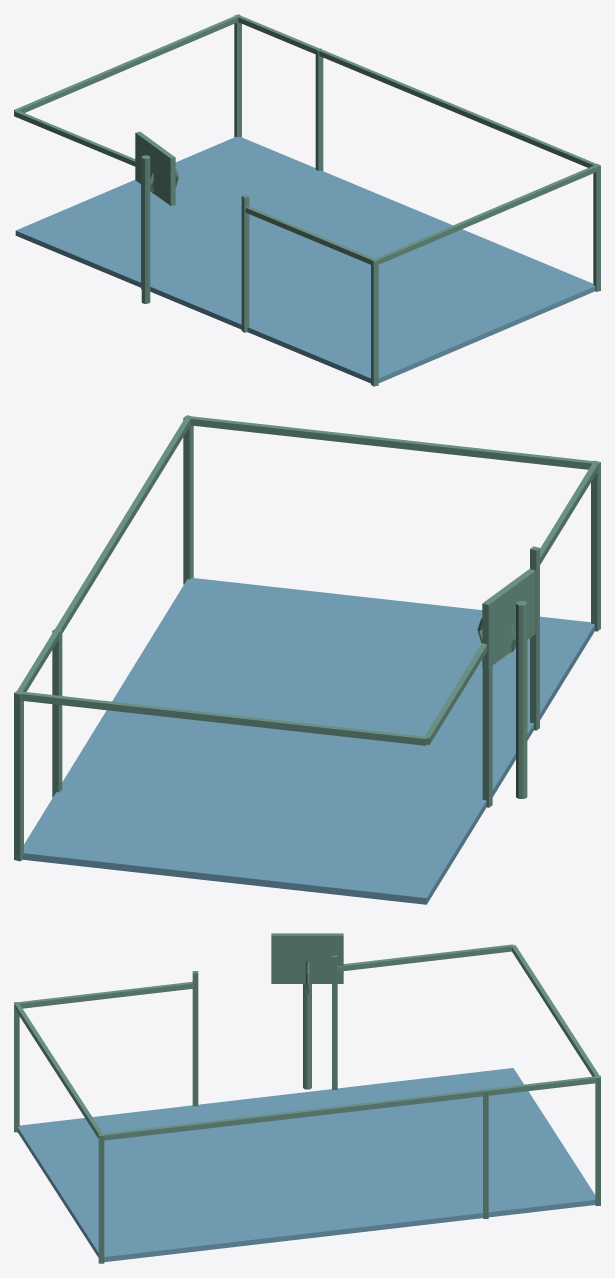
File: huashan-basketball-court-massing.glb
The picture shows the model from 3 angles, top to bottom: view 1: azimuth 30°, elevation 25°; view 2: azimuth 150°, elevation 25°; view 3: azimuth 270°, elevation 25°; orthographic projection. The views are drawn at different scales.
Visible parts, largest first — view 1: huashan-basketball-court-court-massing, huashan-basketball-court-green-massing; view 2: huashan-basketball-court-court-massing, huashan-basketball-court-green-massing; view 3: huashan-basketball-court-court-massing, huashan-basketball-court-green-massing.
Boxes of the visible parts, left/top/right/bottom form: huashan-basketball-court-court-massing: left=15, top=137, right=595, bottom=383; huashan-basketball-court-green-massing: left=14, top=14, right=600, bottom=386; huashan-basketball-court-court-massing: left=22, top=578, right=594, bottom=904; huashan-basketball-court-green-massing: left=14, top=415, right=600, bottom=861; huashan-basketball-court-court-massing: left=17, top=1068, right=595, bottom=1262; huashan-basketball-court-green-massing: left=14, top=933, right=600, bottom=1263.
Size of the model in its own units: 8.04 by 3.09 by 10.41.
